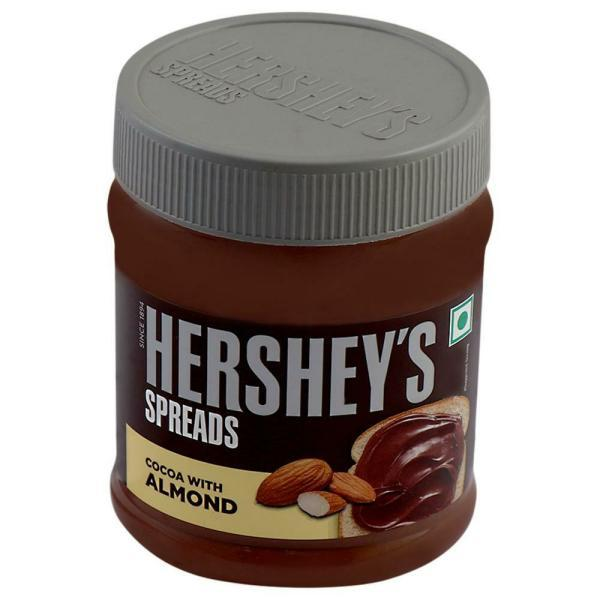Hershey-s: (99, 7, 497, 589)
